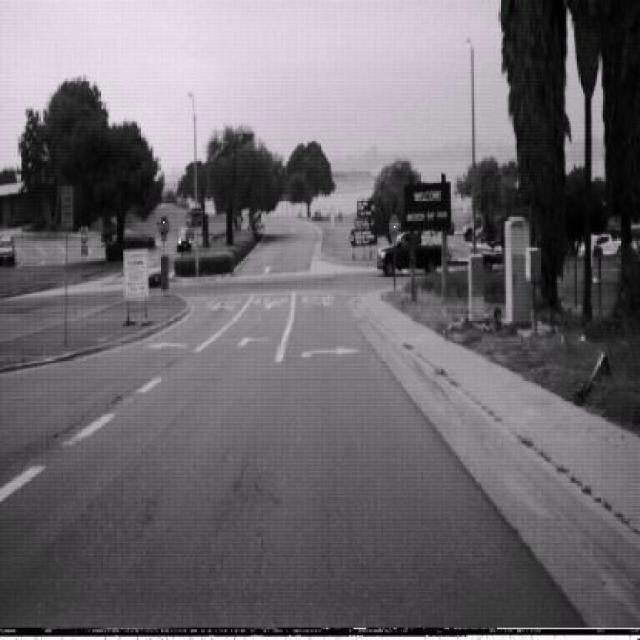stop: (158, 214, 171, 238), (388, 212, 400, 237)
